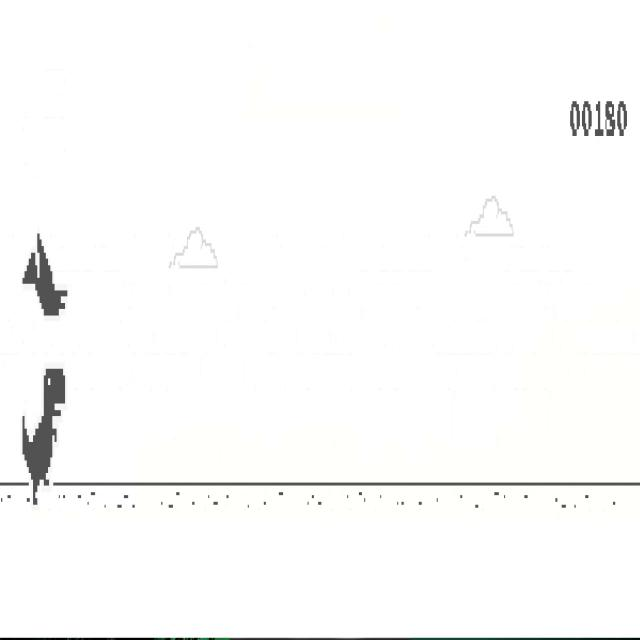dino: (22, 366, 66, 506)
ptero: (22, 231, 68, 317)
